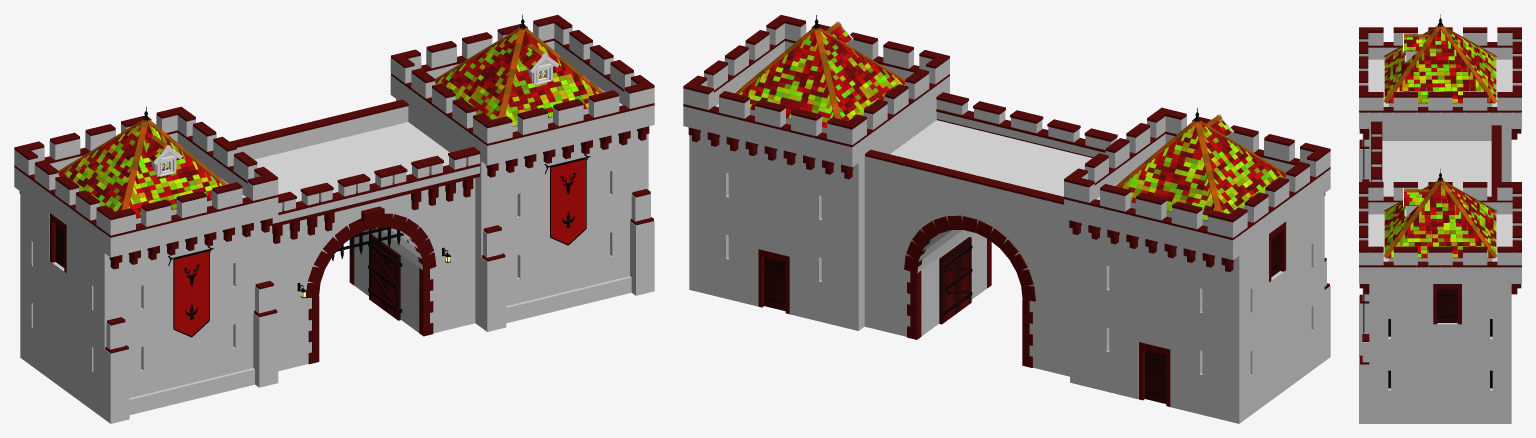
The model's file is SilverbrookGatehouse.fbx.
The picture shows the model from 3 angles, left to right: view 1: azimuth 30°, elevation 25°; view 2: azimuth 150°, elevation 25°; view 3: azimuth 270°, elevation 25°; orthographic projection. The views are drawn at different scales.
Parts seen in each view (by area): view 1: SM_SBGatehouse_Masonry, SM_SBGatehouse_Dressed, SM_SBGatehouse_Roof, SM_SBGatehouse_Details, SM_SBGatehouse_Walk, SM_SBGatehouse_Timber; view 2: SM_SBGatehouse_Masonry, SM_SBGatehouse_Dressed, SM_SBGatehouse_Roof, SM_SBGatehouse_Walk, SM_SBGatehouse_Details; view 3: SM_SBGatehouse_Masonry, SM_SBGatehouse_Roof, SM_SBGatehouse_Dressed, SM_SBGatehouse_Walk, SM_SBGatehouse_Details.
Part boxes in pixels (<box>): SM_SBGatehouse_Masonry: <box>14,23,654,423</box>; SM_SBGatehouse_Dressed: <box>14,15,654,364</box>; SM_SBGatehouse_Roof: <box>58,26,603,218</box>; SM_SBGatehouse_Details: <box>55,14,590,337</box>; SM_SBGatehouse_Walk: <box>58,84,622,201</box>; SM_SBGatehouse_Timber: <box>153,53,559,176</box>; SM_SBGatehouse_Masonry: <box>683,23,1330,423</box>; SM_SBGatehouse_Dressed: <box>683,15,1330,406</box>; SM_SBGatehouse_Roof: <box>735,23,1285,220</box>; SM_SBGatehouse_Walk: <box>715,84,1285,199</box>; SM_SBGatehouse_Details: <box>764,15,1279,403</box>; SM_SBGatehouse_Masonry: <box>1359,32,1521,423</box>; SM_SBGatehouse_Roof: <box>1383,25,1497,258</box>; SM_SBGatehouse_Dressed: <box>1359,27,1521,388</box>; SM_SBGatehouse_Walk: <box>1368,59,1512,261</box>; SM_SBGatehouse_Details: <box>1363,14,1457,333</box>.
Size of the model in its own units: 2600 by 1198 by 800.
